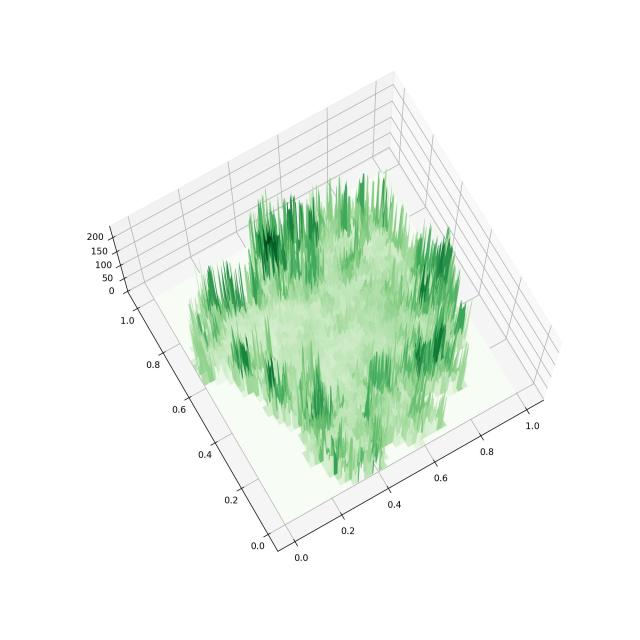fir: (61, 40, 593, 574)
